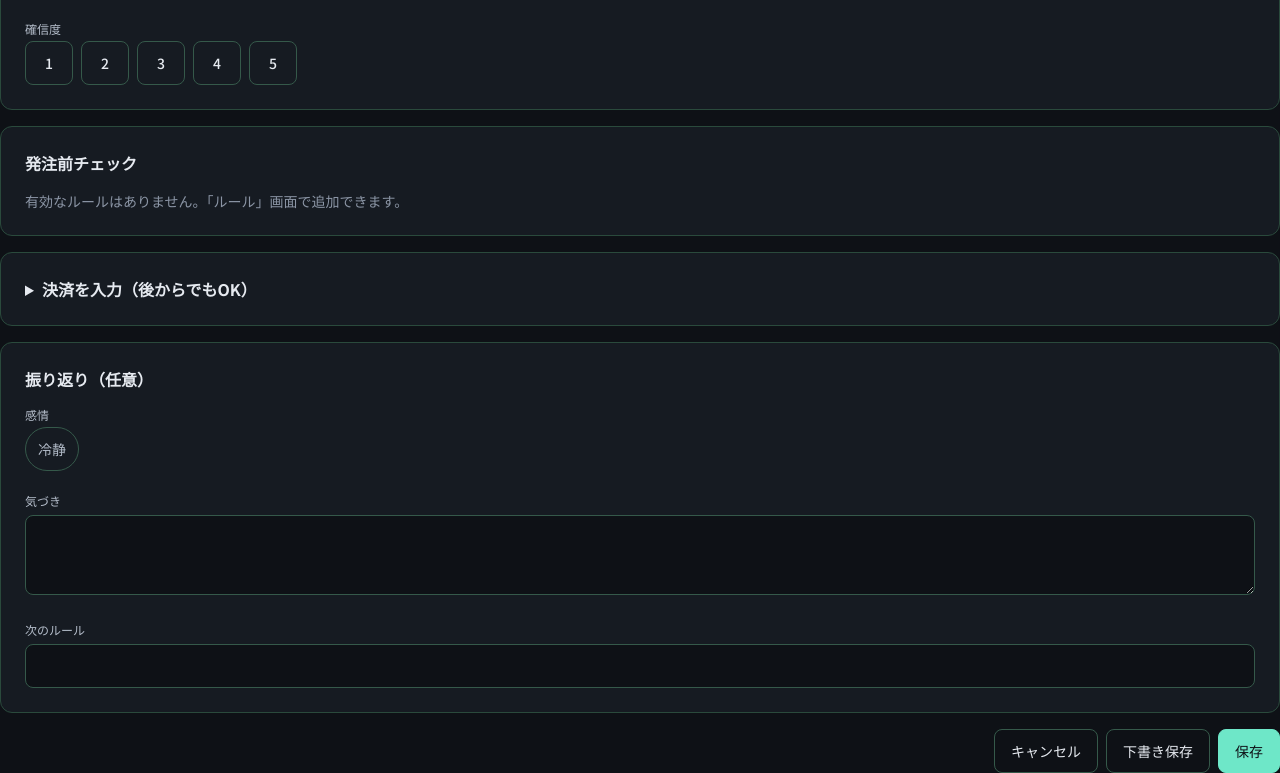
Test: トレード記録フォーム › 必須が空のまま保存すると、各項目の直下にエラーを出し、送信しない
(page scrolled)
Click the button "保存": [1249, 751] box [1218,729,1279,772]
(page scrolled)
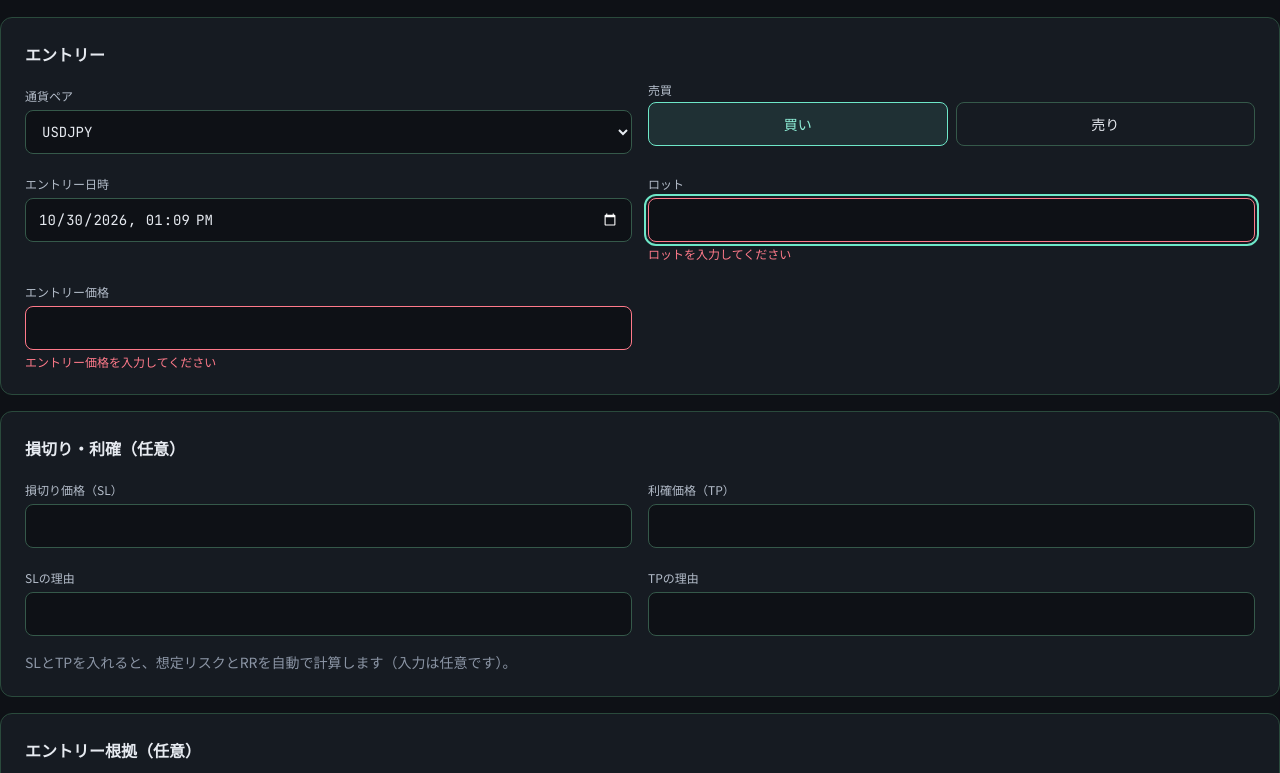
Now the text "ロットを入力してください" is shown, box [648,245,791,262]
Now the text "エントリー価格を入力してください" is shown, box [25,353,216,370]
